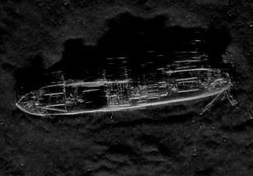ship: (12, 58, 240, 118)
